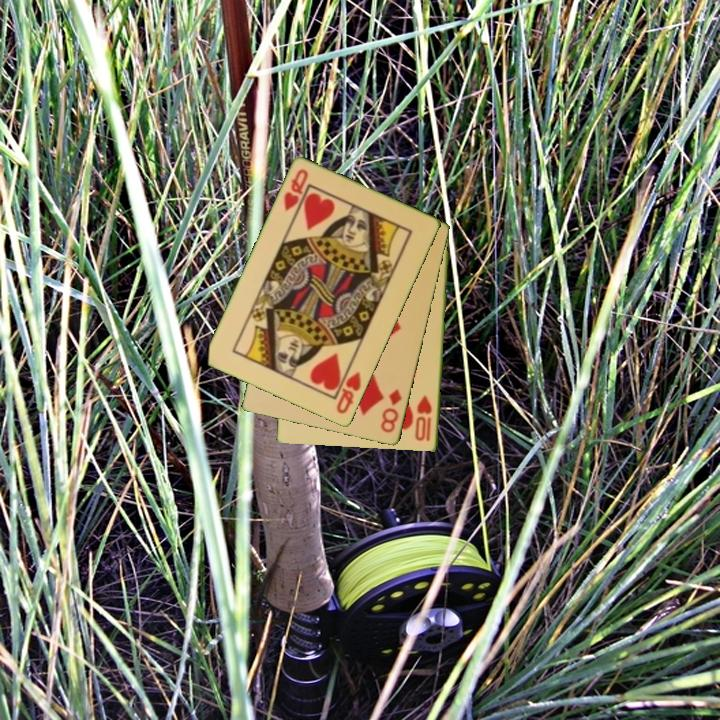10h: (412, 392, 435, 444)
8d: (377, 386, 405, 436)
Qh: (280, 165, 311, 215), (333, 368, 364, 417)
